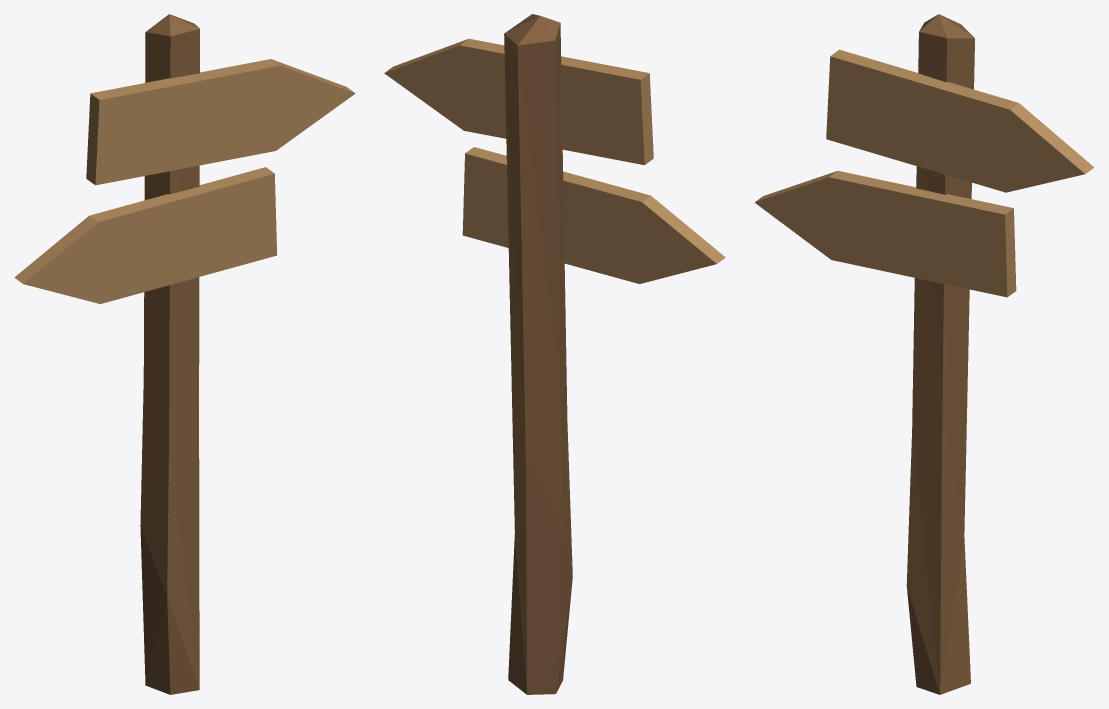
File: Pointer_03.fbx
The picture shows the model from 3 angles, left to right: view 1: azimuth 30°, elevation 25°; view 2: azimuth 150°, elevation 25°; view 3: azimuth 330°, elevation 25°; orthographic projection.
Visible parts, largest first — view 1: Pointer_03; view 2: Pointer_03; view 3: Pointer_03.
Part boxes in pixels (bbox=[...]): Pointer_03: bbox=[14, 14, 355, 694]; Pointer_03: bbox=[384, 14, 725, 694]; Pointer_03: bbox=[755, 14, 1093, 694].
Size of the model in its own units: 0.8825 by 1.7 by 0.1616.
